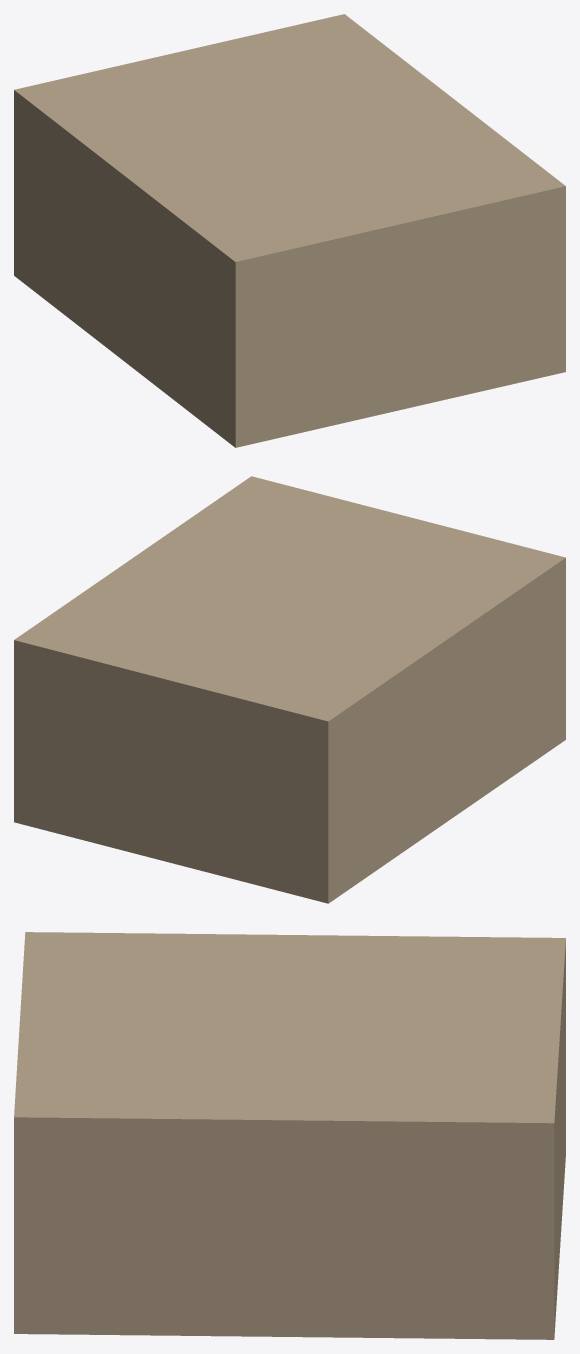
Rendered from bld_106466805.dae.
3 renders of one model, top to bottom at view 1: azimuth 30°, elevation 25°; view 2: azimuth 150°, elevation 25°; view 3: azimuth 270°, elevation 25°, orthographic. The views are drawn at different scales.
Visible parts, largest first — view 1: bld_106466805; view 2: bld_106466805; view 3: bld_106466805.
Boxes of the visible parts, box(x1,y1,x2,y2) form: bld_106466805: box(14, 14, 565, 447); bld_106466805: box(14, 476, 565, 903); bld_106466805: box(14, 932, 565, 1339).
Bounding box in the file's own units: 15.14 × 18.47 × 8.
